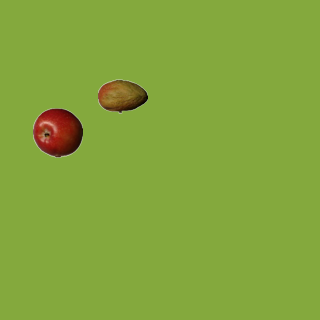Apple Braeburn: (32, 107, 82, 157)
Papaya: (97, 71, 147, 121)
